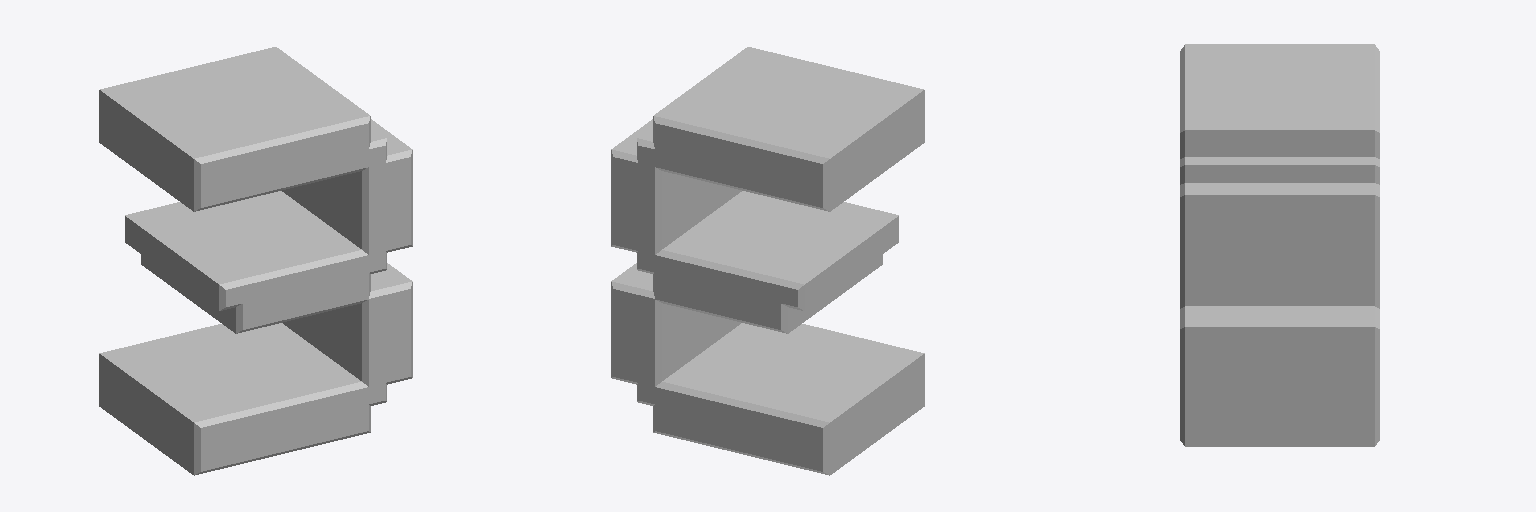
Rendered from trouble_two.obj.
The picture shows the model from 3 angles: view 1: azimuth 30°, elevation 25°; view 2: azimuth 150°, elevation 25°; view 3: azimuth 270°, elevation 25°; orthographic projection.
Parts seen in each view (by area): view 1: Text; view 2: Text; view 3: Text.
Part boxes in pixels (x1,y1,x2,y2): Text: (99, 47, 412, 475); Text: (611, 47, 924, 475); Text: (1180, 44, 1379, 446).
Size of the model in its own units: 0.2003 by 0.2772 by 0.158.